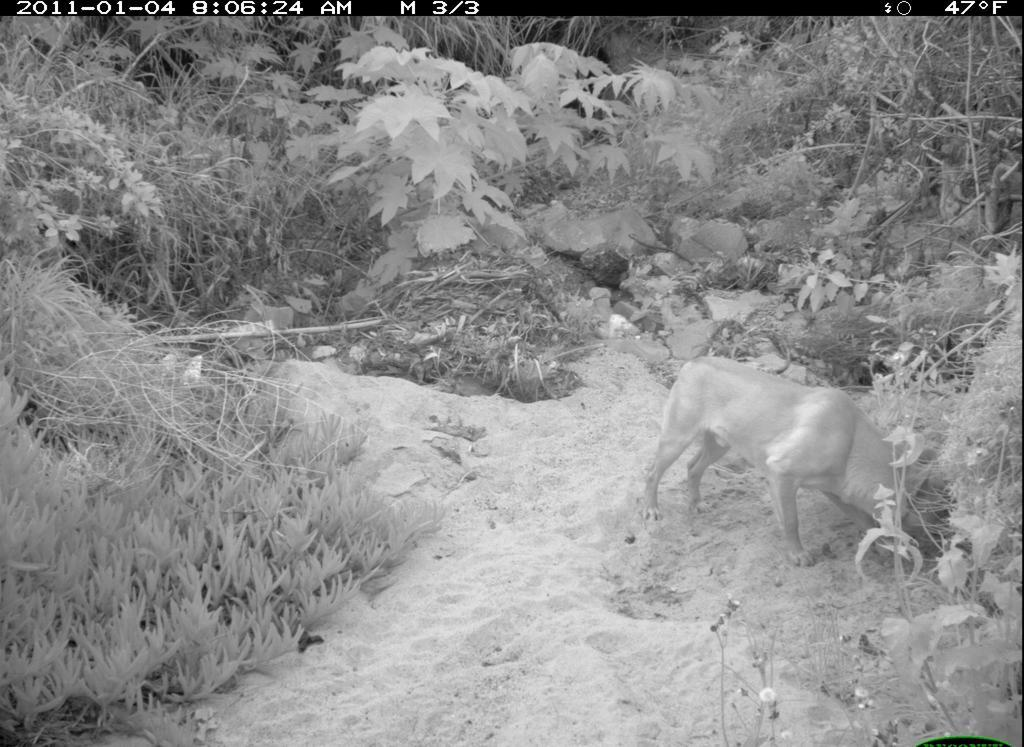dog: (642, 354, 957, 582)
